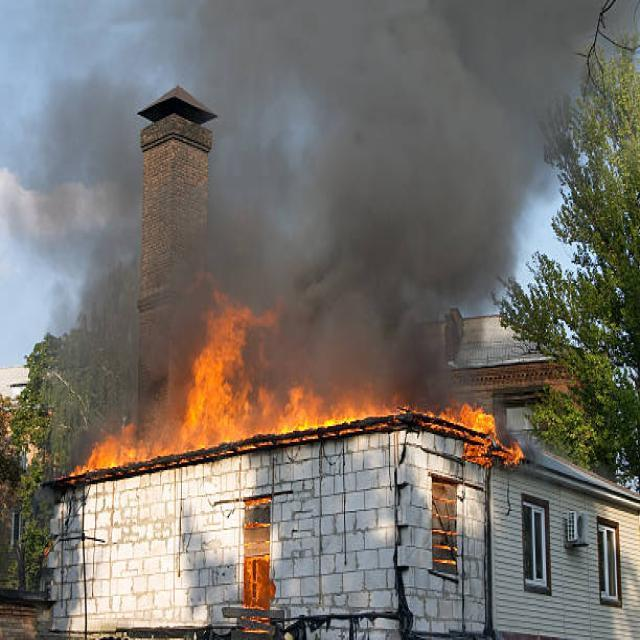Fire: (92, 314, 529, 462), (246, 499, 272, 615)
Smoke: (210, 0, 519, 389), (44, 17, 144, 399), (522, 4, 588, 160)
